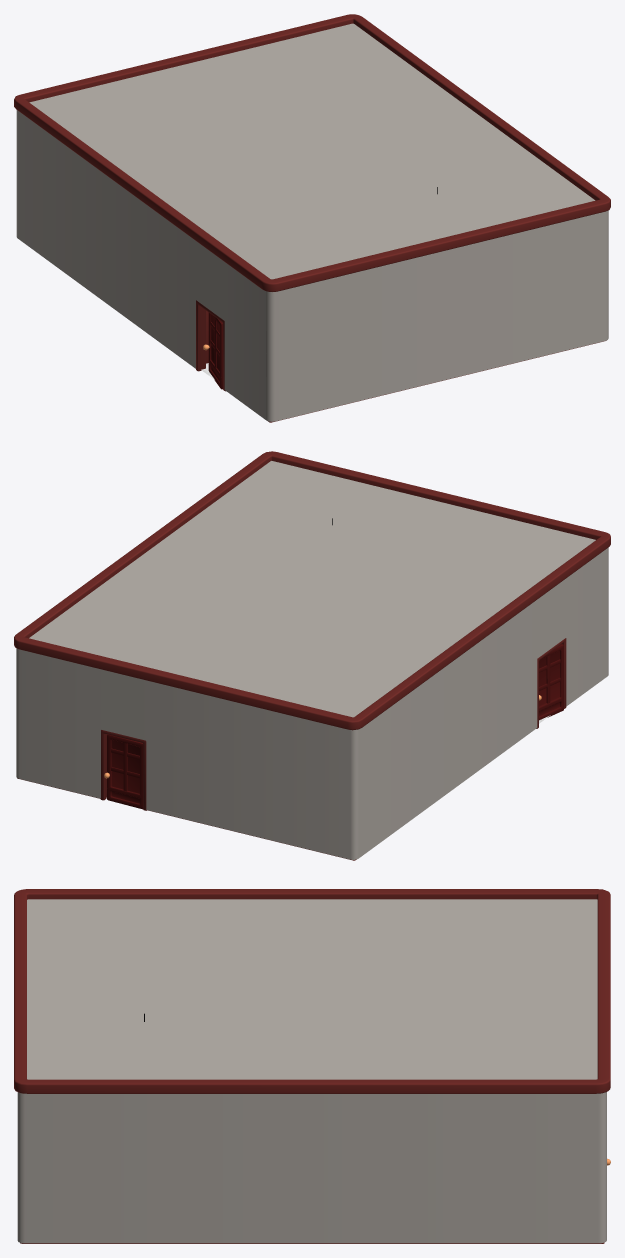
The model's file is Room.fbx.
3 views of the same model, one above another, from view 1: azimuth 30°, elevation 25°; view 2: azimuth 150°, elevation 25°; view 3: azimuth 270°, elevation 25° (orthographic). The views are drawn at different scales.
Parts seen in each view (by area): view 1: SM_room_04__1_, SM_door_02; view 2: SM_room_04__1_, SM_door_02__1_, SM_door_02; view 3: SM_room_04__1_.
Boxes of the visible parts, x1,y1,x2,y2 form: SM_room_04__1_: (14,14,610,422); SM_door_02: (203,312,222,389); SM_room_04__1_: (14,451,610,860); SM_door_02__1_: (104,734,143,809); SM_door_02: (539,644,563,720); SM_room_04__1_: (14,889,610,1243).
Size of the model in its own units: 1321 by 540 by 1705.
